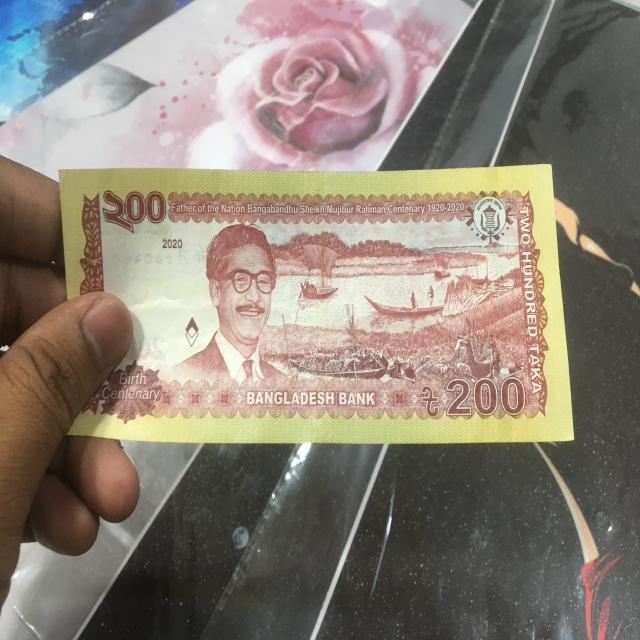Taka: (56, 162, 561, 421)
